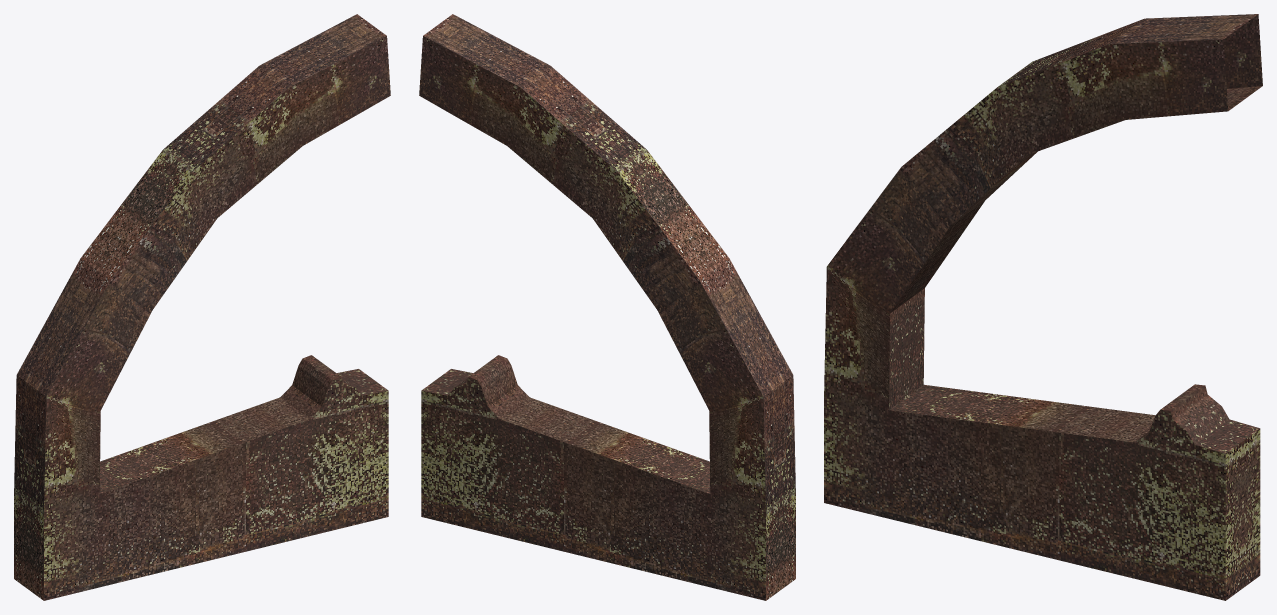
File: Ruims7.fbx
The picture shows the model from 3 angles, left to right: view 1: azimuth 30°, elevation 25°; view 2: azimuth 150°, elevation 25°; view 3: azimuth 330°, elevation 25°; orthographic projection. The views are drawn at different scales.
Parts seen in each view (by area): view 1: Plane.111; view 2: Plane.111; view 3: Plane.111.
Boxes of the visible parts, x1=… form: Plane.111: x1=14, y1=14, x2=390, y2=600; Plane.111: x1=419, y1=14, x2=795, y2=600; Plane.111: x1=824, y1=14, x2=1262, y2=600.
Bounding box in the file's own units: 402 × 534 × 60.
